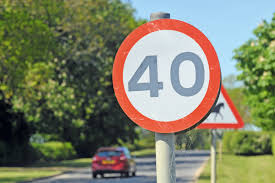Speed_limit_40km: (111, 19, 223, 132)
